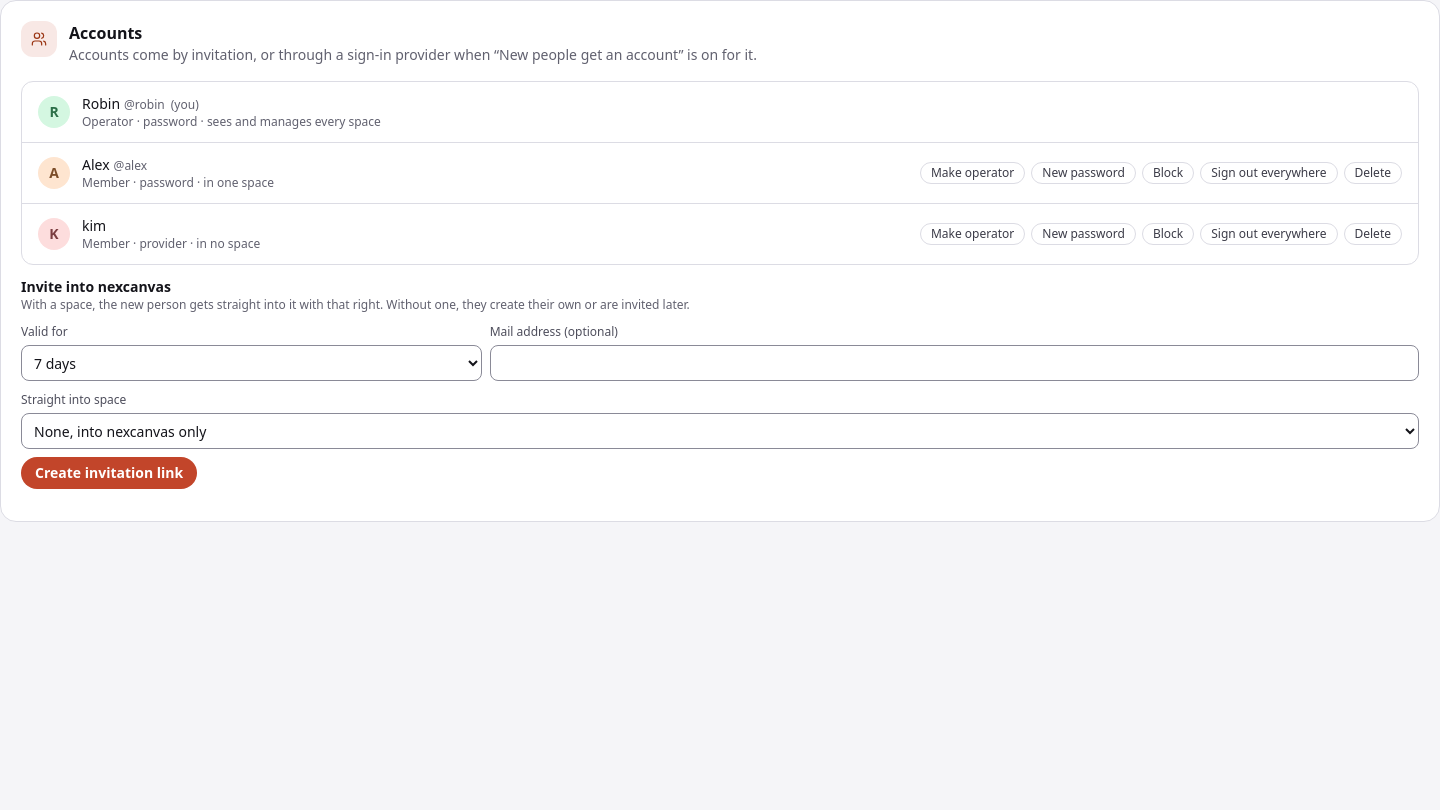
Test: the account list › asks before deleting with the display name, the family sentence and "Your password"
The image size is (1440, 810).
Step 1. Click the button "Delete" in the row of "in one space" → (1373, 173), box [1344,162,1402,184]
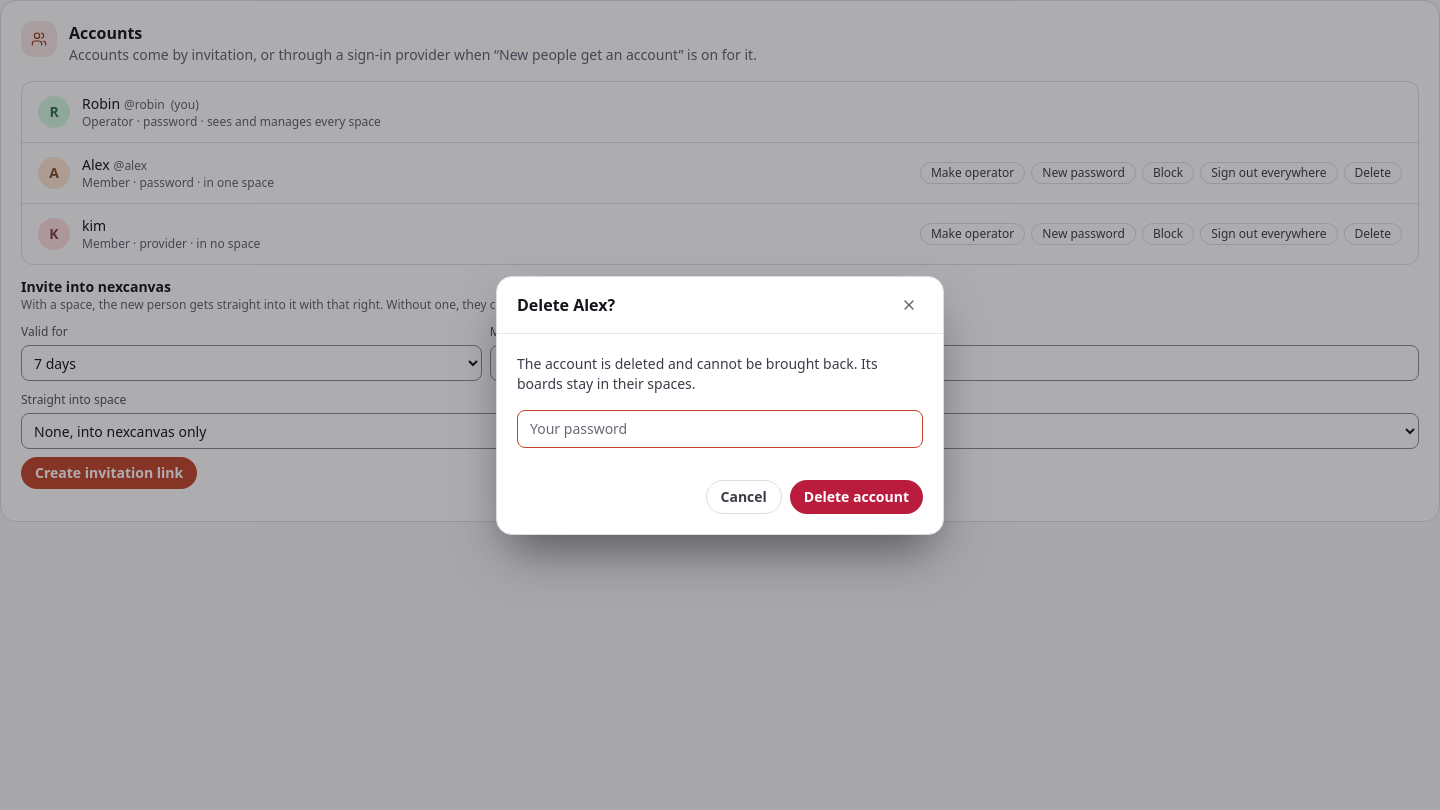
Now the dialog shows "Delete Alex?", box [517,294,615,316]
Now the dialog shows "The account is deleted and cannot be brought back.", box [517,354,878,392]
